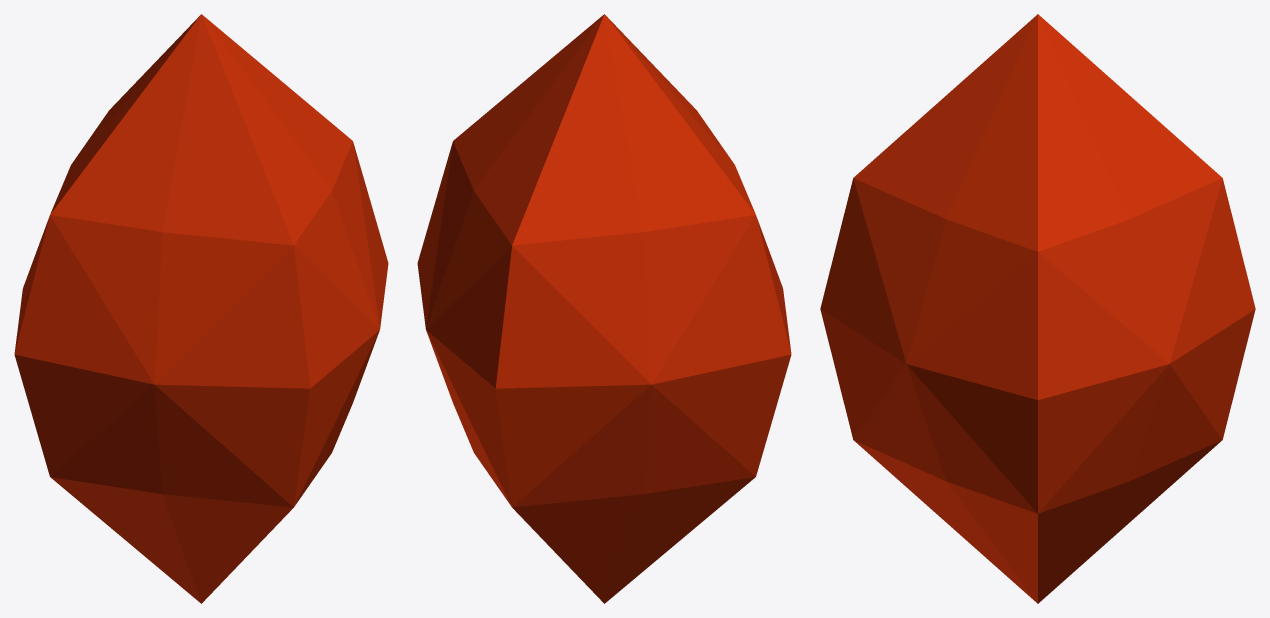
Rendered from CrystalOrange.obj.
The picture shows the model from 3 angles, left to right: view 1: azimuth 30°, elevation 25°; view 2: azimuth 150°, elevation 25°; view 3: azimuth 270°, elevation 25°; orthographic projection.
Parts seen in each view (by area): view 1: CrystalOrange; view 2: CrystalOrange; view 3: CrystalOrange.
Part boxes in pixels (x1=…): CrystalOrange: x1=14, y1=14, x2=388, y2=603; CrystalOrange: x1=417, y1=14, x2=791, y2=603; CrystalOrange: x1=820, y1=14, x2=1255, y2=603.
Bounding box in the file's own units: 2.99 × 4.5 × 3.01.
